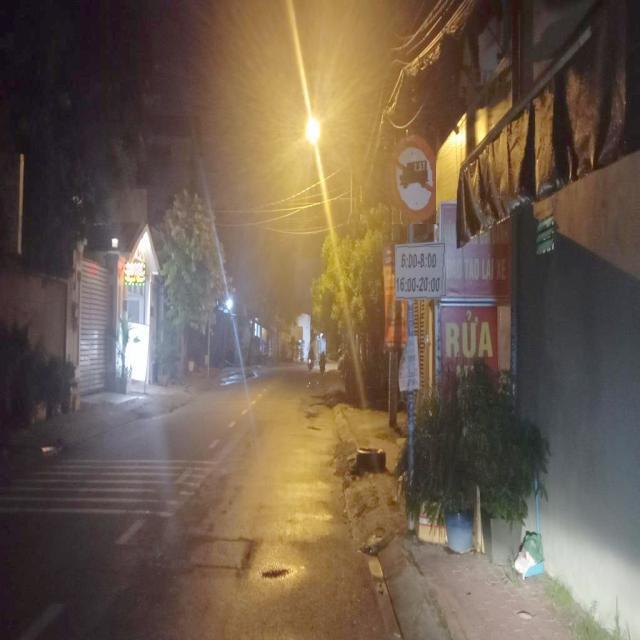106-cam-oto-tai: (385, 136, 439, 218)
